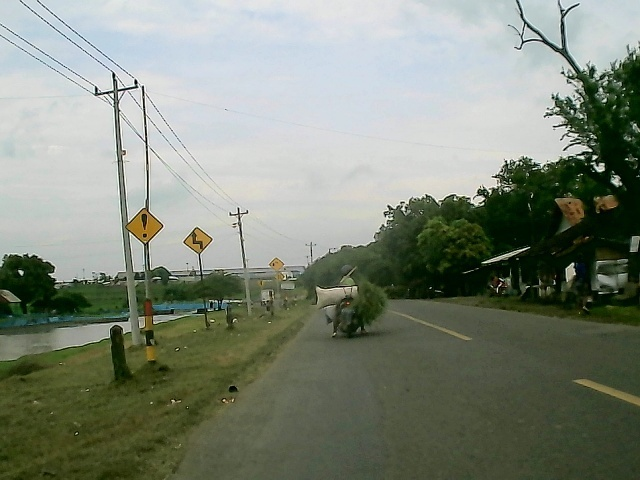Hati-hati: (121, 206, 166, 246)
Peringatan tepi air: (269, 255, 285, 274)
Tikungan garda pertama kiri: (181, 224, 216, 257)
